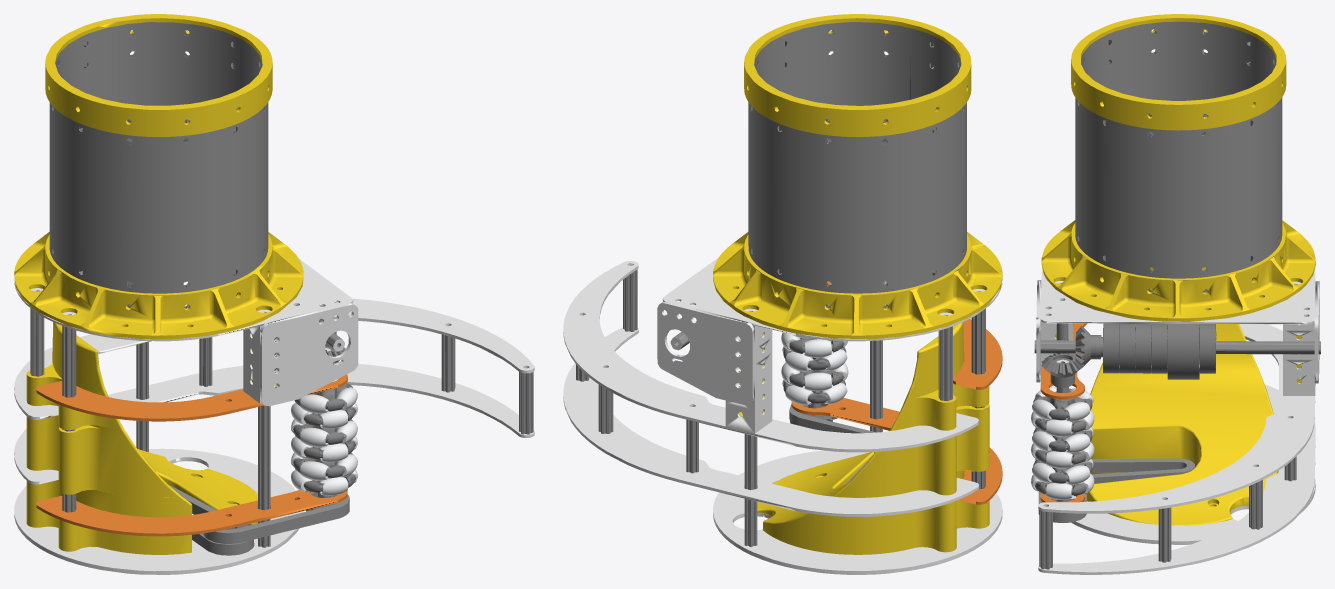
The model's file is rotor-604-donor.glb.
3 views of the same model, side by side, from view 1: azimuth 30°, elevation 25°; view 2: azimuth 150°, elevation 25°; view 3: azimuth 270°, elevation 25° (orthographic). The views are drawn at different scales.
Visible parts, largest first — view 1: rotor, frame, infeed; view 2: frame, rotor, infeed; view 3: rotor, frame, upfeed, infeed.
Boxes of the visible parts, x1,y1,x2,y2 form: rotor: [14, 14, 303, 339]; frame: [14, 259, 534, 574]; infeed: [291, 344, 357, 511]; frame: [563, 258, 1002, 574]; rotor: [713, 14, 1002, 338]; infeed: [781, 281, 848, 421]; rotor: [1041, 14, 1315, 321]; frame: [1036, 261, 1319, 574]; upfeed: [1034, 323, 1320, 379]; infeed: [1031, 353, 1094, 501].
Bounding box in the file's own units: 0.3739 × 0.3715 × 0.2282.
